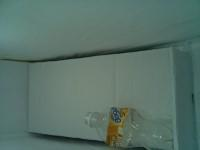bottle: (82, 106, 178, 150)
